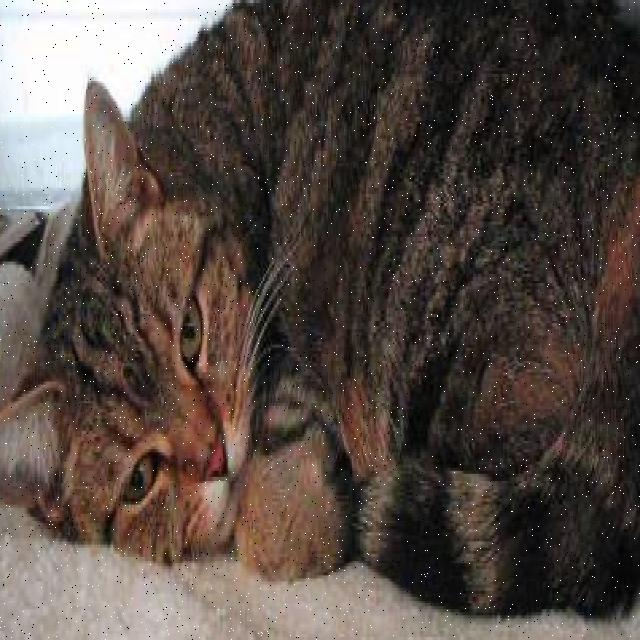Cat: (0, 86, 287, 585)
